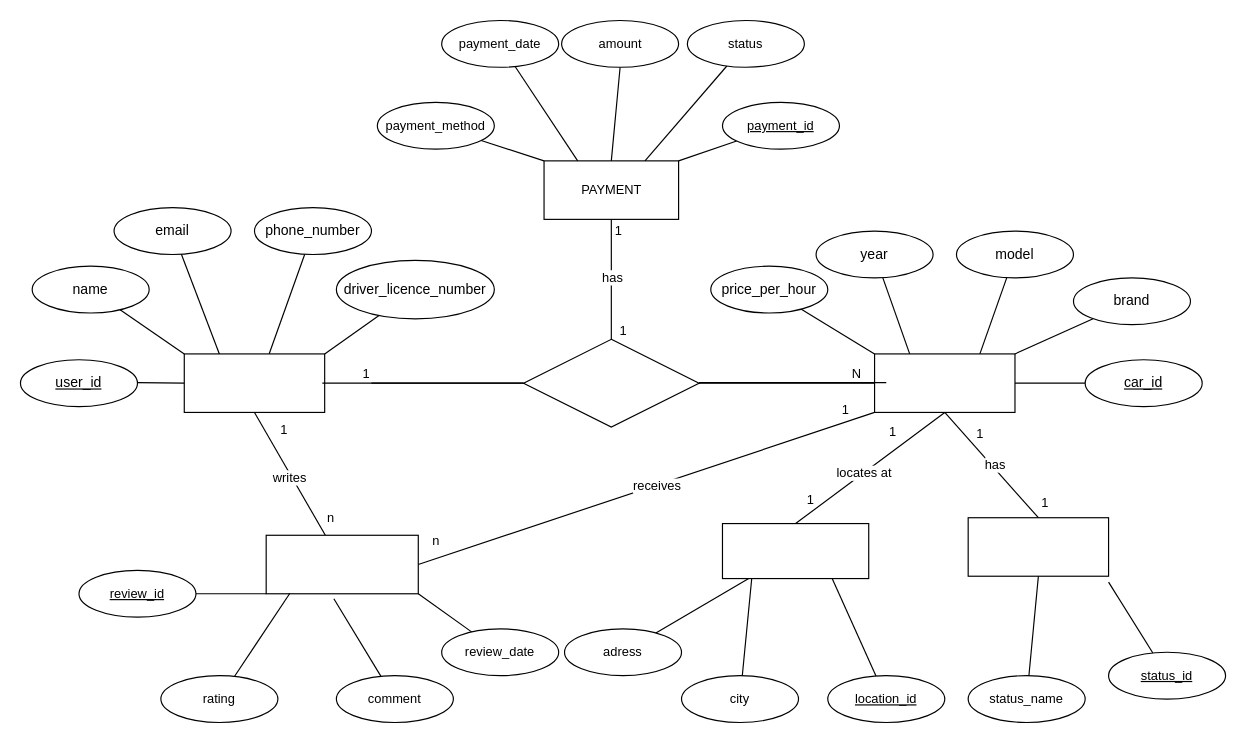
Image size: 1246x743. Some labels were removed from this diagram. The box of each missing label's shape, as (x1, y1, x2, y2) in pixels:
CAR: (873, 353, 1015, 412)
CAR_LOCATION: (721, 522, 869, 579)
CAR_STATUS: (967, 517, 1109, 576)
rents: (522, 338, 699, 427)
REVIEW: (265, 534, 418, 594)
USER: (183, 353, 325, 412)
